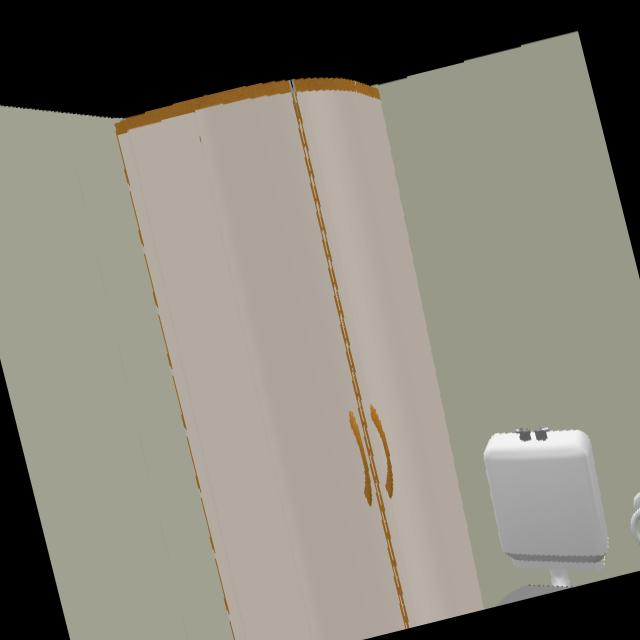shower: (115, 78, 489, 640)
toilet: (483, 427, 610, 606)
